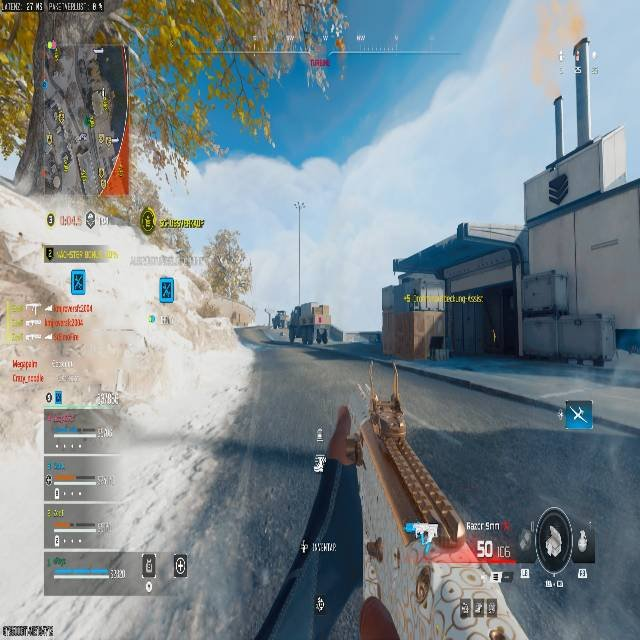player: (318, 327, 327, 344)
